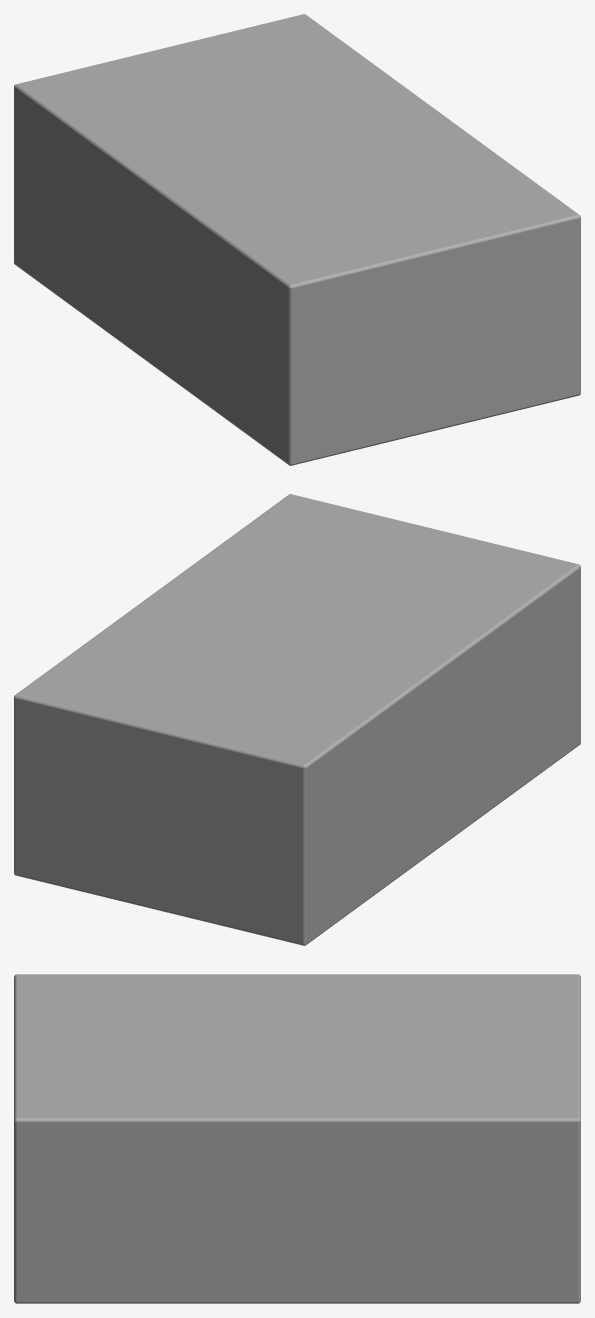
Rendered from cuboid.glb.
3 views of the same model, one above another, from view 1: azimuth 30°, elevation 25°; view 2: azimuth 150°, elevation 25°; view 3: azimuth 270°, elevation 25° (orthographic). The views are drawn at different scales.
Visible parts, largest first — view 1: cuboid.1; view 2: cuboid.1; view 3: cuboid.1.
Part boxes in pixels (box(x1,y1,x2,y2)): cuboid.1: box(14, 14, 580, 465); cuboid.1: box(14, 494, 580, 945); cuboid.1: box(14, 974, 580, 1303).
Size of the model in its own units: 0.14 by 0.0827 by 0.2293.
1 material, 1 textured.
